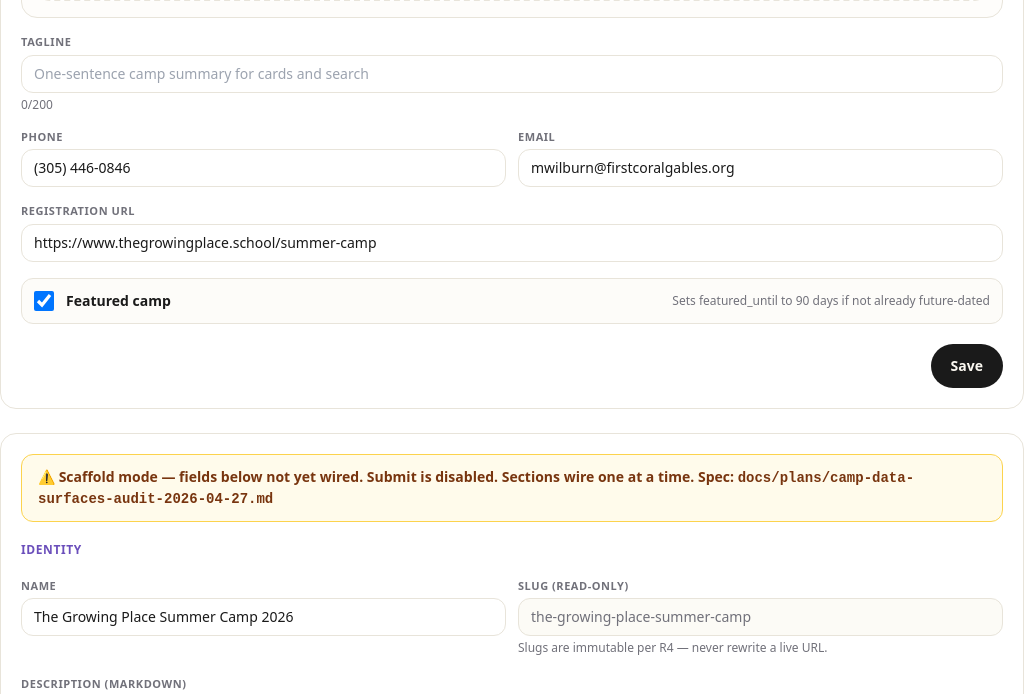
Test: CampEditForm — wired Quick edit form › renders form-level _form error from the server action
(page scrolled)
Click the button with test id "quick-edit-submit" at (967, 366), box 931,344 -> 1003,388
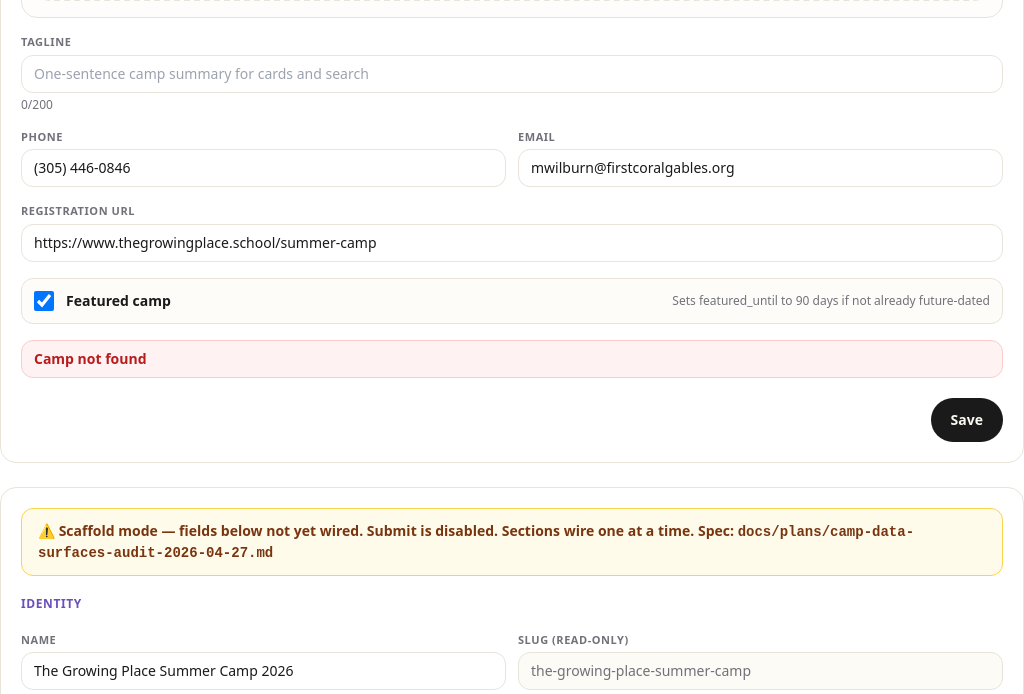
Expected: the text "Camp not found" is shown, 21,340 -> 1003,378
